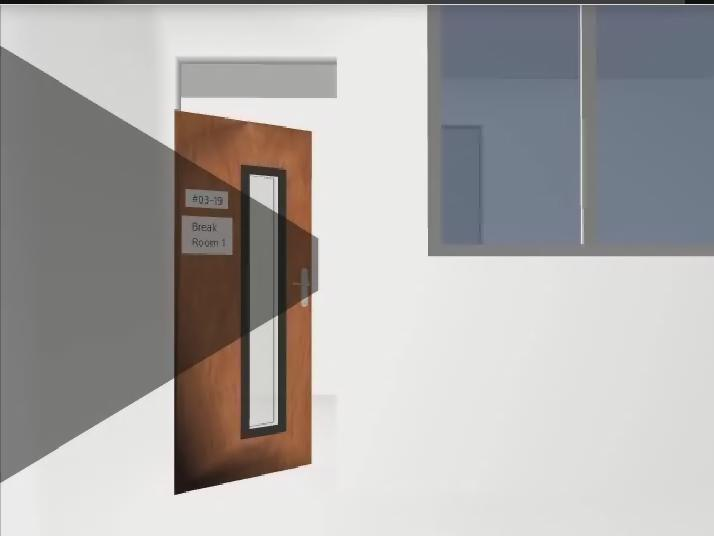door: (175, 110, 312, 494)
